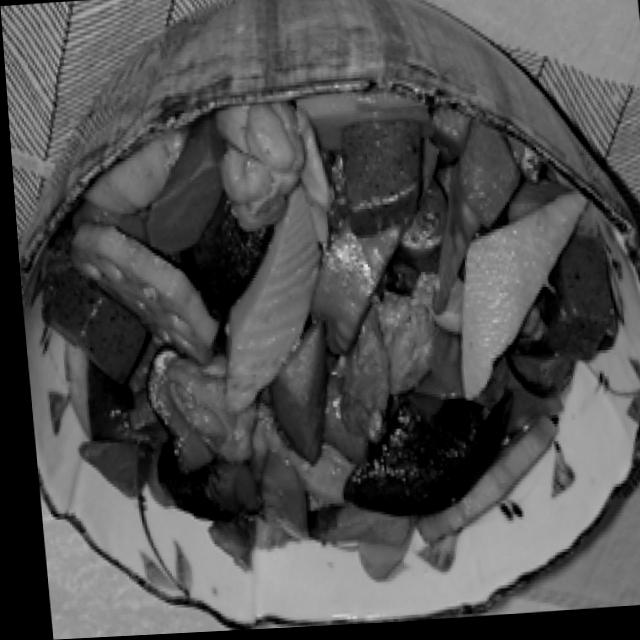鸡肉料理 含炸鸡: (52, 106, 620, 579)
